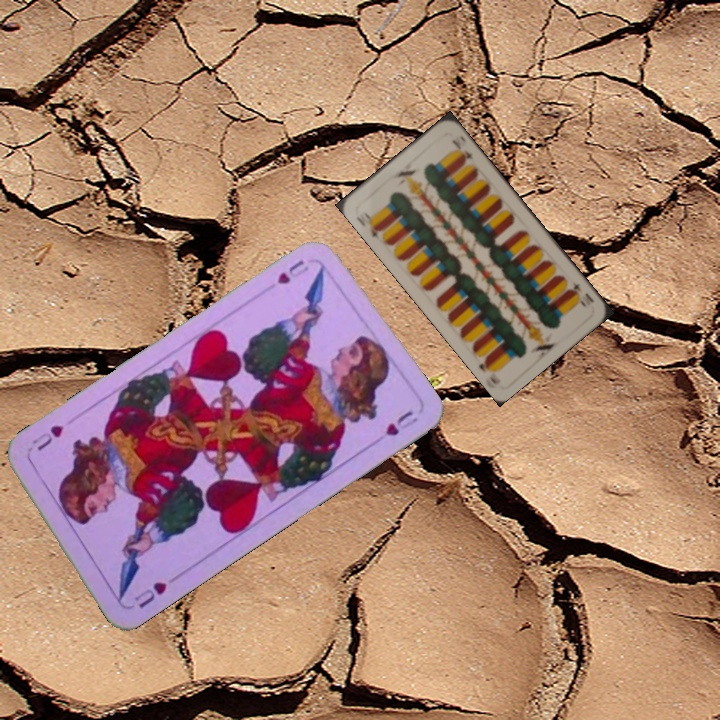E10: (352, 208, 385, 241), (565, 278, 589, 310)
HU: (129, 577, 169, 611), (273, 255, 312, 287)
